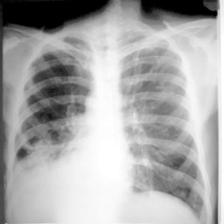tuberculosis: (11, 31, 210, 219)
